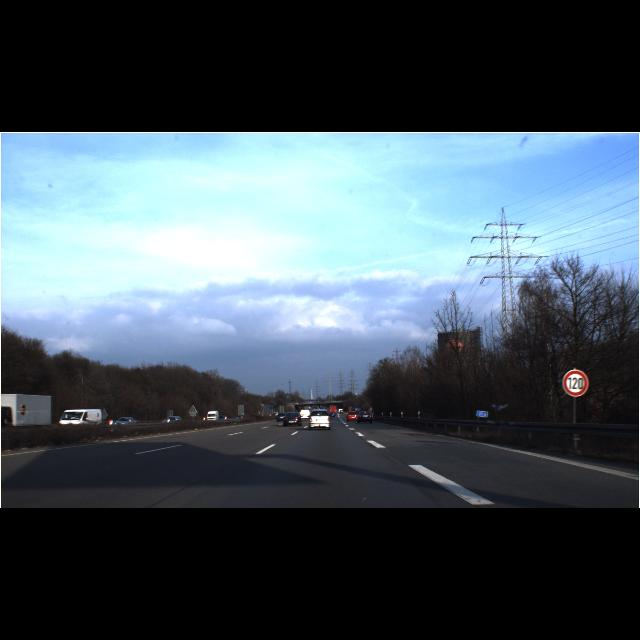prohibitory: (562, 369, 588, 397)
